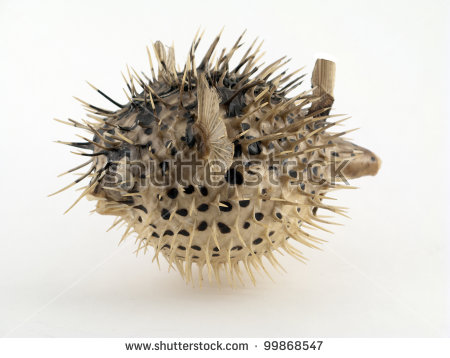Diodon_holocanthus: (45, 22, 391, 296)
